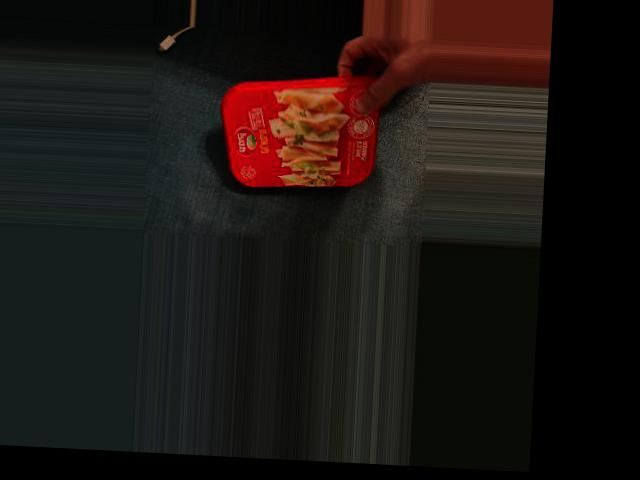cheese: (220, 64, 385, 195)
